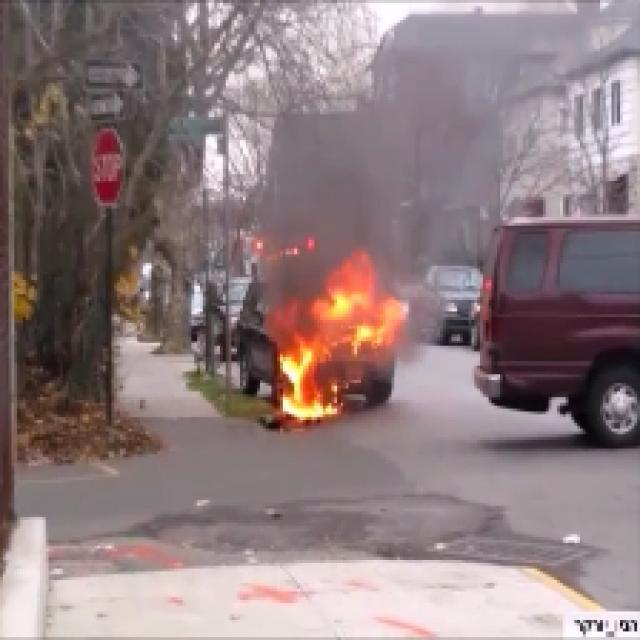Fire: (270, 274, 398, 426)
Smoke: (278, 137, 396, 250), (398, 73, 455, 257)
